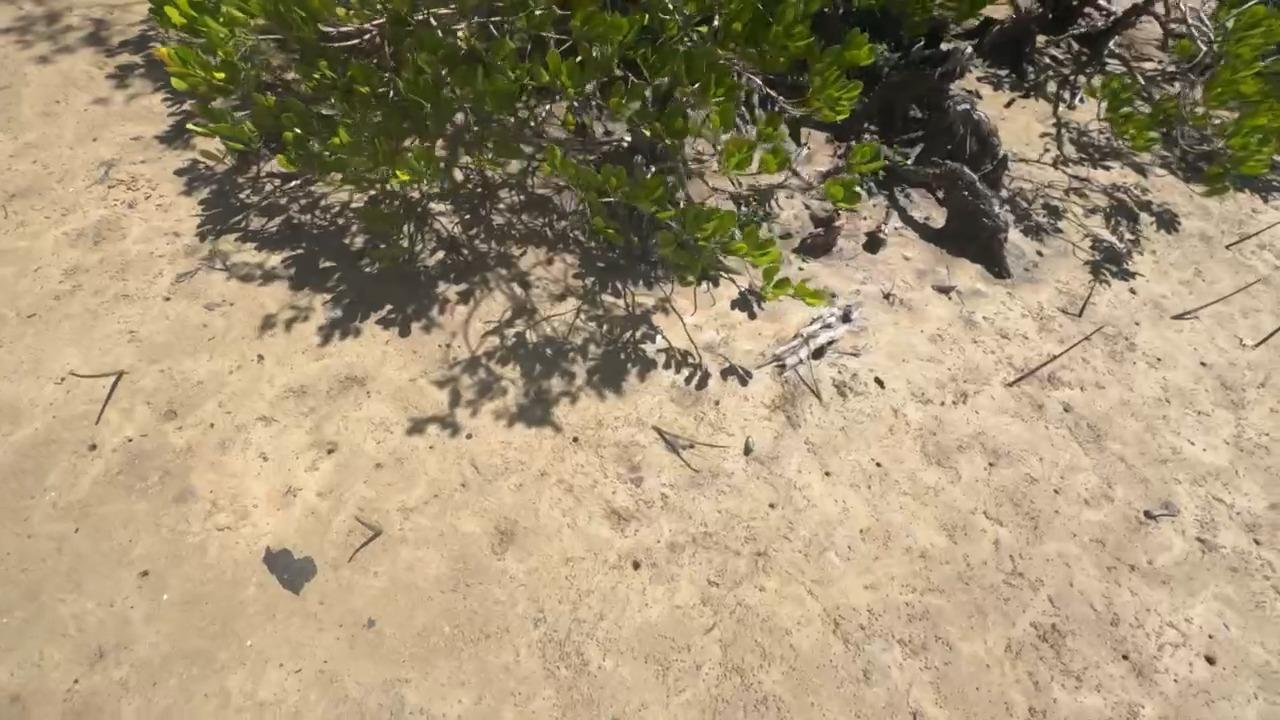Tree: (1010, 325, 1104, 387), (1171, 280, 1258, 319), (651, 424, 732, 448), (1225, 221, 1280, 248), (1078, 279, 1097, 319), (355, 517, 384, 536), (1256, 327, 1280, 349), (68, 370, 126, 377)
